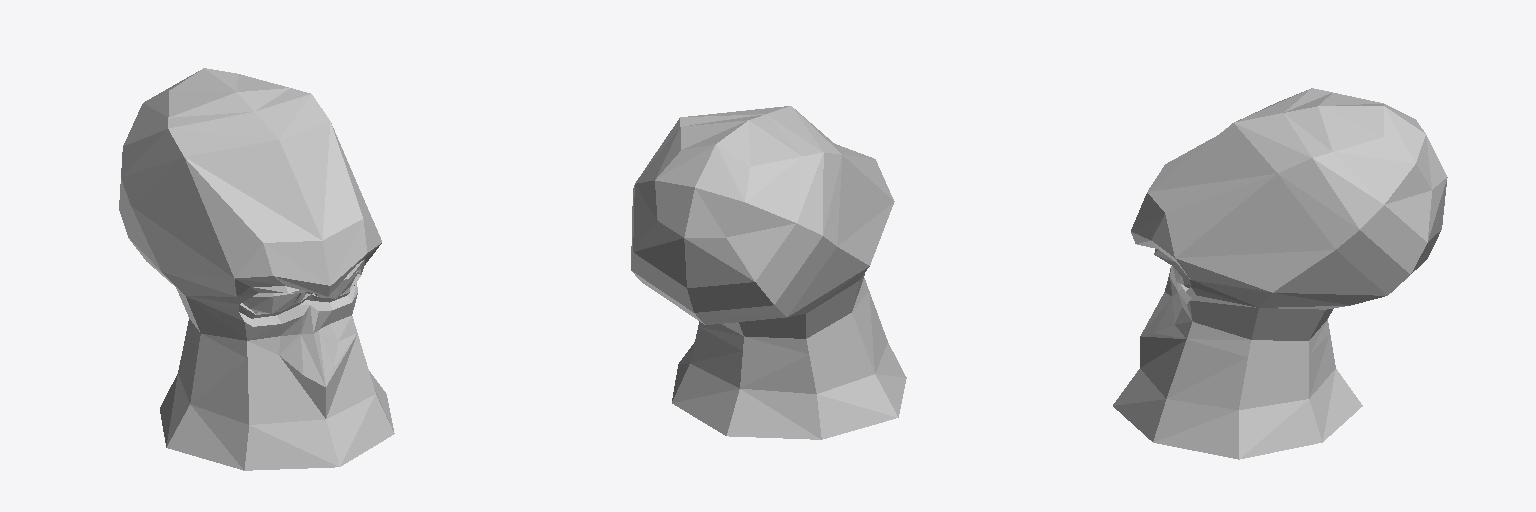
File: Octopus_Head_Obj_IM_01.obj
3 renders of one model, left to right at view 1: azimuth 30°, elevation 25°; view 2: azimuth 150°, elevation 25°; view 3: azimuth 270°, elevation 25°, orthographic.
Parts seen in each view (by area): view 1: pCube7; view 2: pCube7; view 3: pCube7.
Part boxes in pixels (x1,y1,x2,y2): pCube7: (119,68,394,470); pCube7: (631,106,906,439); pCube7: (1113,88,1447,459).
Size of the model in its own units: 4.55 by 5.92 by 6.